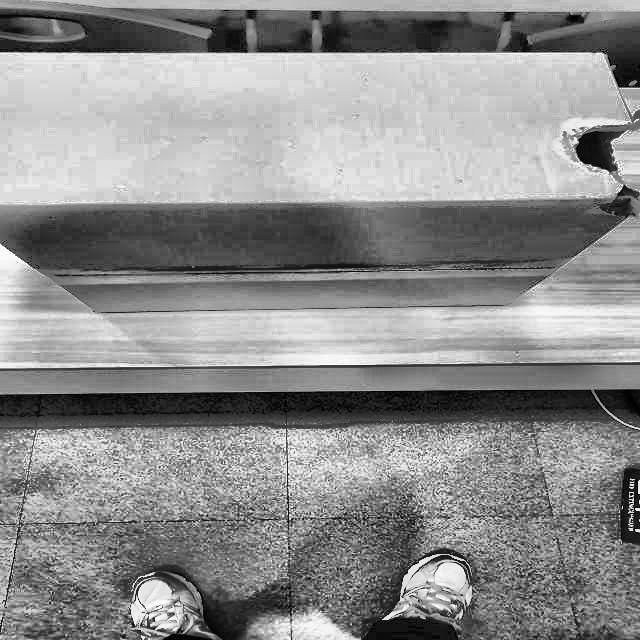box: (0, 39, 639, 318)
hole: (564, 117, 640, 218)
